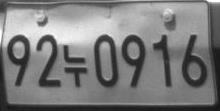0: (93, 33, 119, 87)
1: (150, 33, 176, 87)
2: (36, 33, 61, 87)
6: (180, 34, 207, 88)
9: (120, 33, 146, 87), (6, 33, 31, 87)
누: (62, 44, 87, 88)
